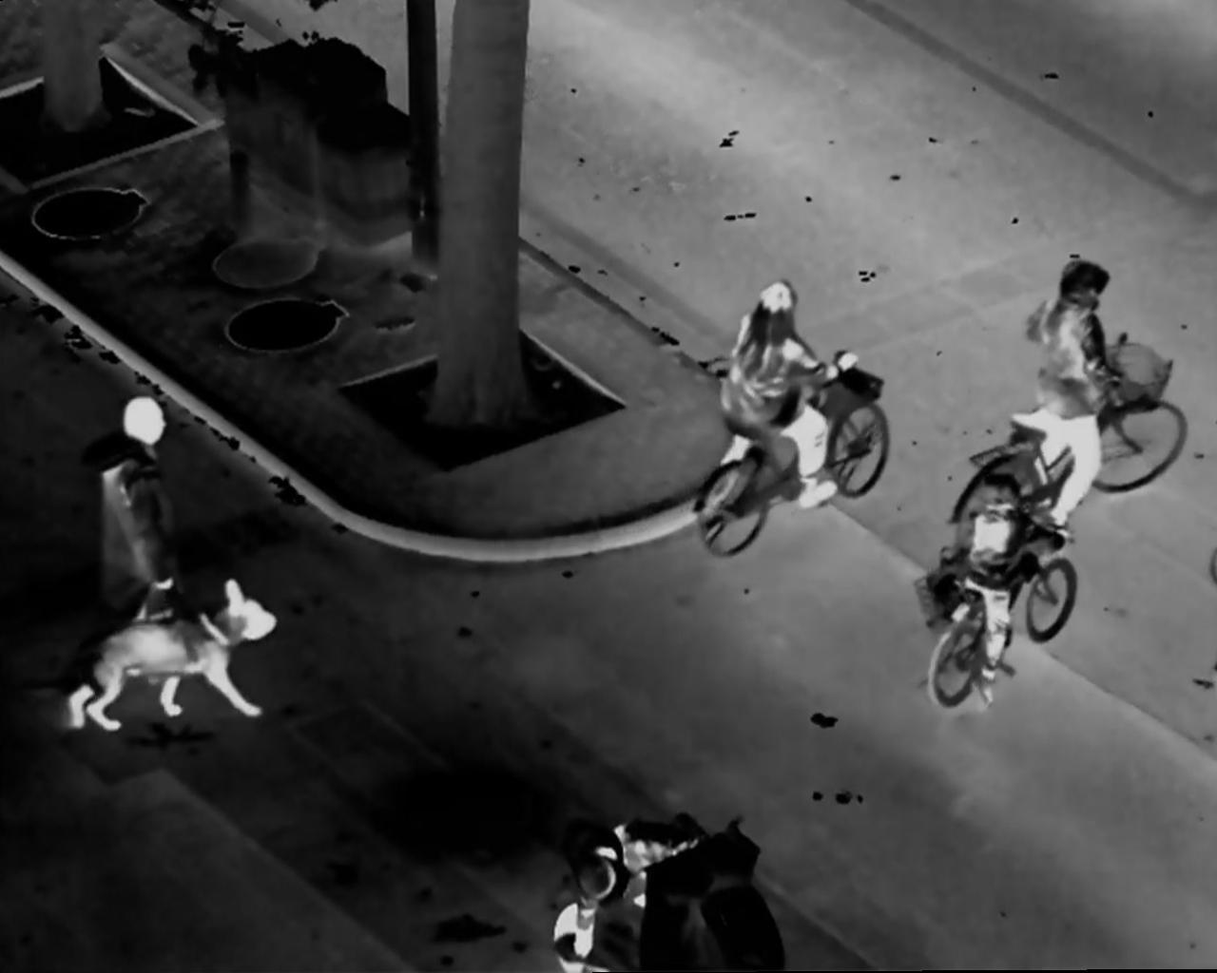person: (716, 275, 866, 517), (1026, 260, 1111, 546), (930, 470, 1033, 703), (89, 389, 188, 629), (564, 811, 713, 963)
